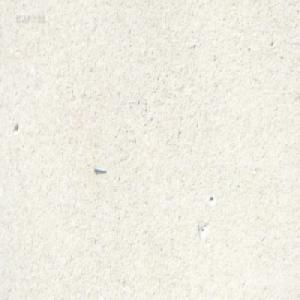Nail: (93, 163, 106, 172)
